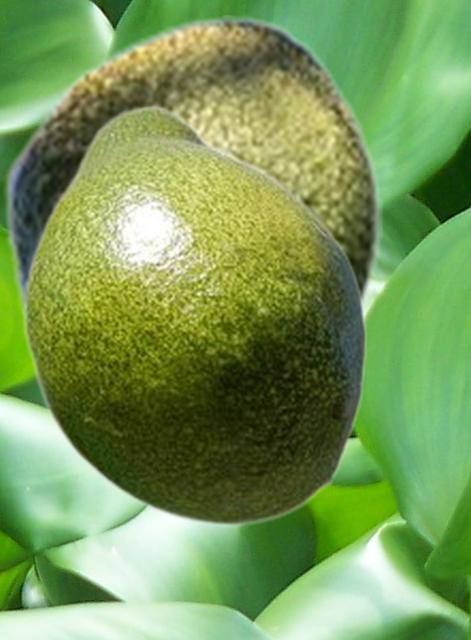avocado: (21, 104, 367, 528), (2, 15, 381, 332)
